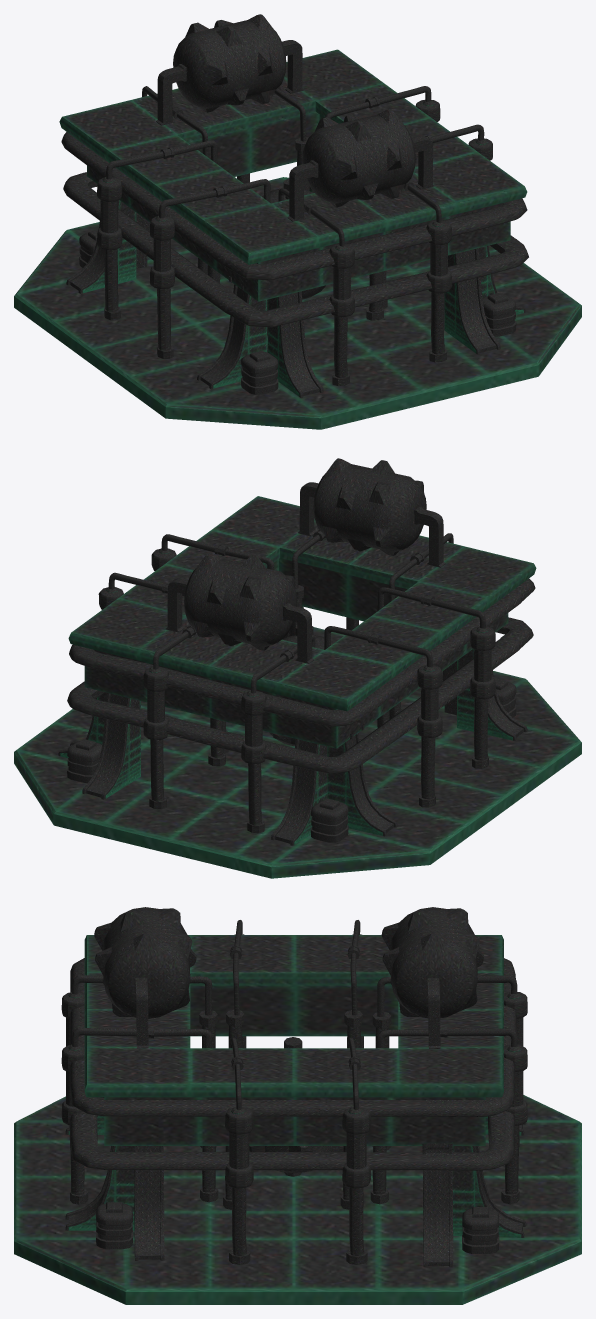
File: Grinder_Green.fbx
3 views of the same model, one above another, from view 1: azimuth 30°, elevation 25°; view 2: azimuth 150°, elevation 25°; view 3: azimuth 270°, elevation 25° (orthographic). The views are drawn at different scales.
Visible parts, largest first — view 1: Grinder_Green; view 2: Grinder_Green; view 3: Grinder_Green.
Boxes of the visible parts, x1,y1,x2,y2 form: Grinder_Green: (14, 14, 581, 429); Grinder_Green: (14, 458, 581, 878); Grinder_Green: (14, 907, 581, 1304).
Size of the model in its own units: 16.61 by 9.42 by 17.66.
